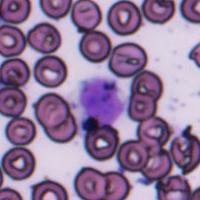M: (78, 75, 123, 128)
